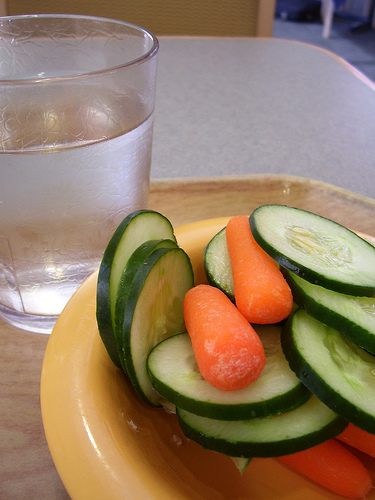cucumber: (246, 202, 373, 302), (121, 245, 193, 413), (277, 263, 373, 357)
